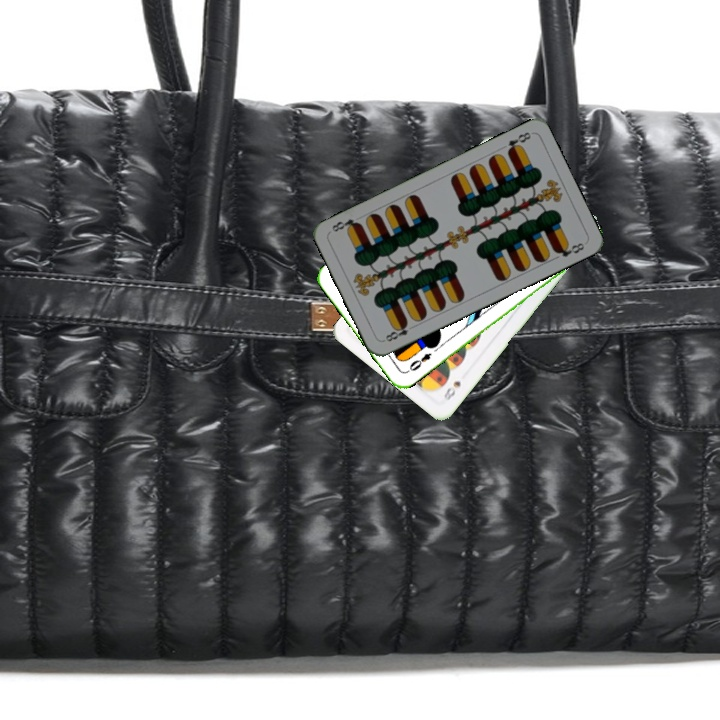E8: (496, 128, 534, 156), (380, 318, 418, 344)
EO: (402, 349, 434, 375)
S8: (439, 377, 464, 403)
